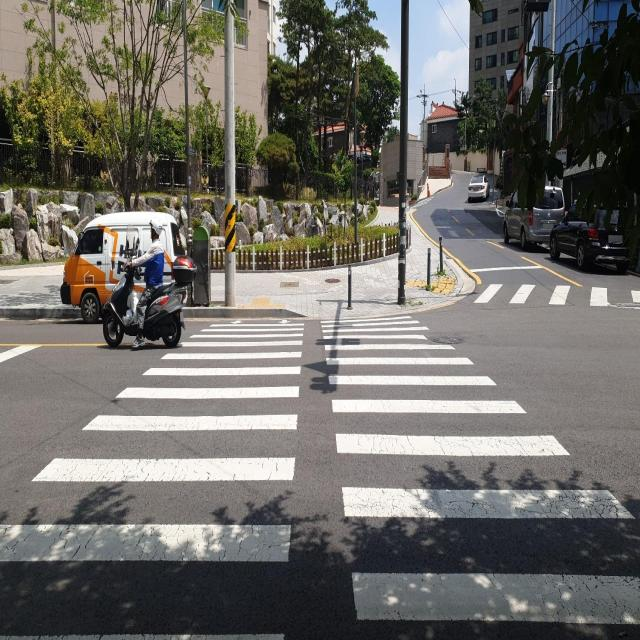횡단보도: (0, 310, 640, 640), (471, 269, 638, 318)
